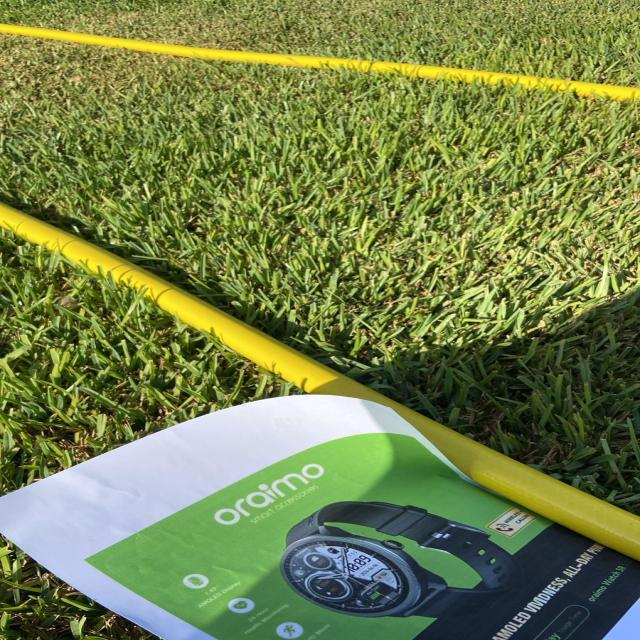Oraimo Watch 5R OSW-820: (583, 555, 639, 608)
